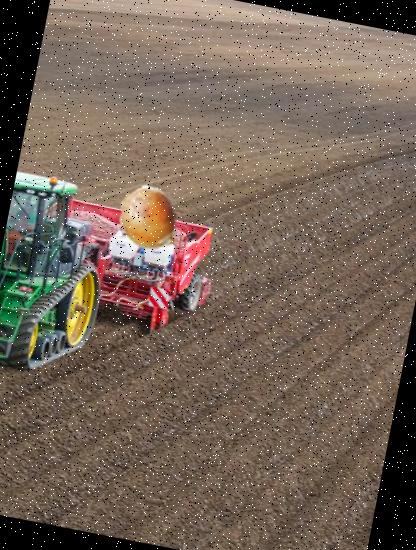Onion: (110, 180, 186, 256)
